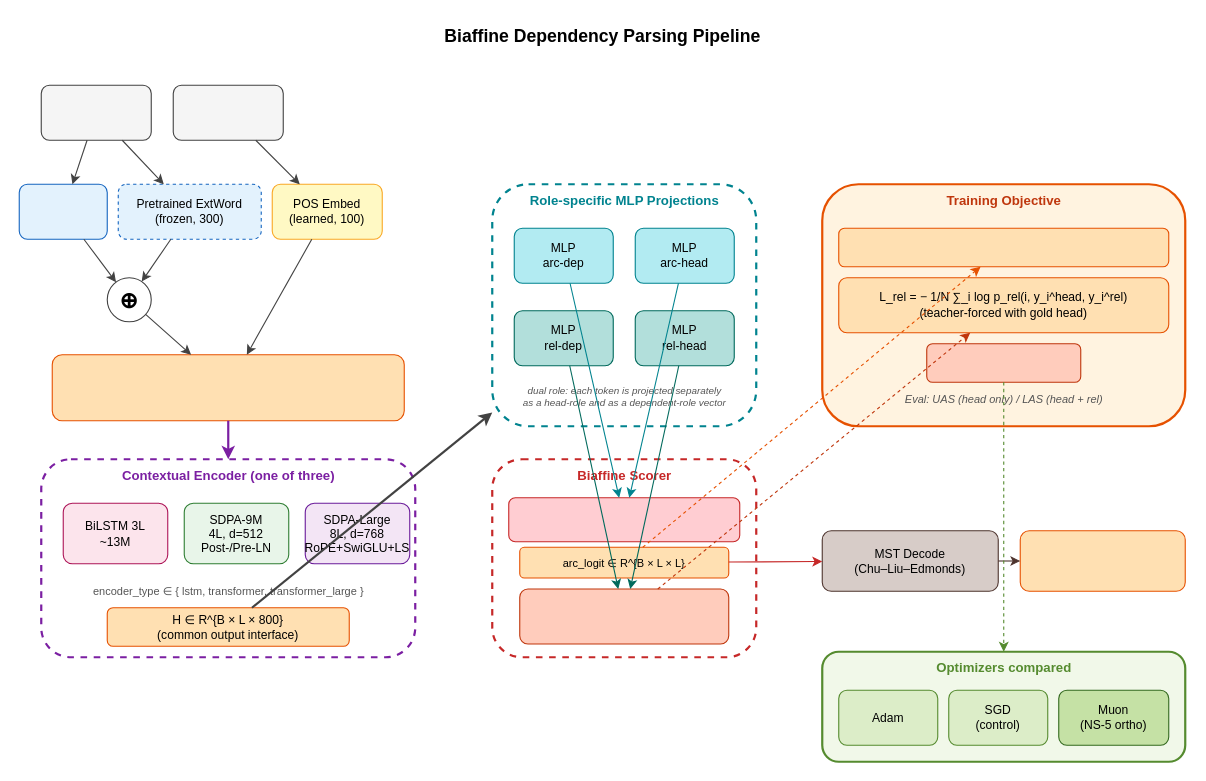
This 1206x781 diagram has some shape labels left out. The shapes that lost their labels are listed below. From the top down, each one's box as (x1, y1, x2, y2) in pixels, then its label:
(40, 84, 151, 140): Words (B, L)
(172, 84, 283, 140): POS Tags (B, L)
(18, 183, 107, 239): Word Embed (learned, 300)
(838, 227, 1169, 267): L_arc = − 1/N ∑_i log p_arc(i → y_i^head)
(926, 343, 1081, 382): L = L_arc + L_rel
(51, 354, 404, 421): Lexical Feature [word⊕ext ; tag] dim = 400 | word-dropout in training
(508, 497, 740, 542): s_arc(i→j) = h_iᵀ W_arc h_j + bᵀ h_j
(1019, 530, 1185, 591): Predicted Tree: {(head_i, rel_i)}
(519, 588, 729, 644): rel_logit ∈ R^{B × L × L × R} (trilinear, per-relation)
